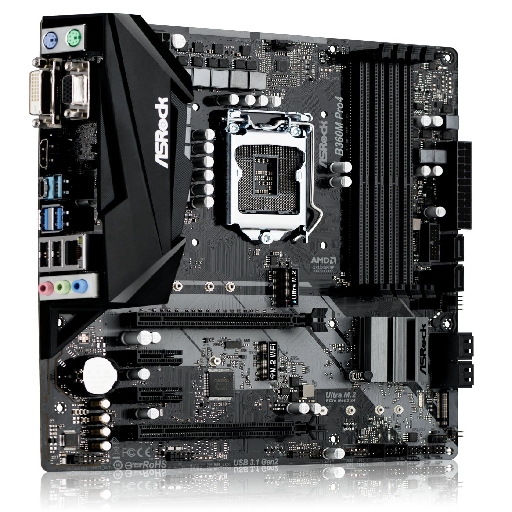CPU: (218, 100, 326, 253)
GPU: (121, 303, 336, 337), (125, 418, 330, 445)
MOTHERBOARD: (27, 11, 480, 470)
RAM: (334, 40, 445, 297)
SSD: (265, 251, 301, 307), (251, 337, 281, 384)
